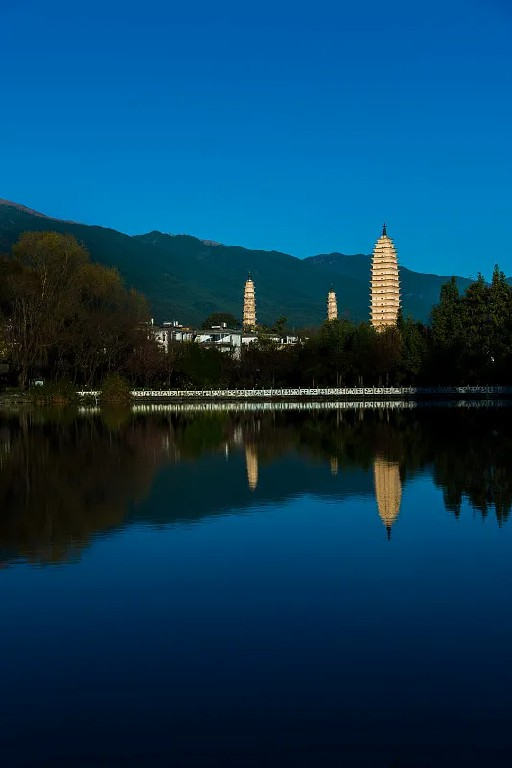ThreePagoda: (367, 222, 402, 333)
